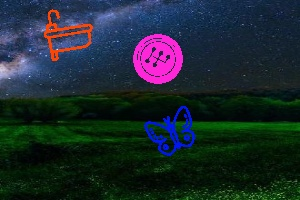圆饼: (132, 34, 185, 85)
浴缸: (44, 10, 92, 58)
蝴蝶: (143, 107, 196, 154)
